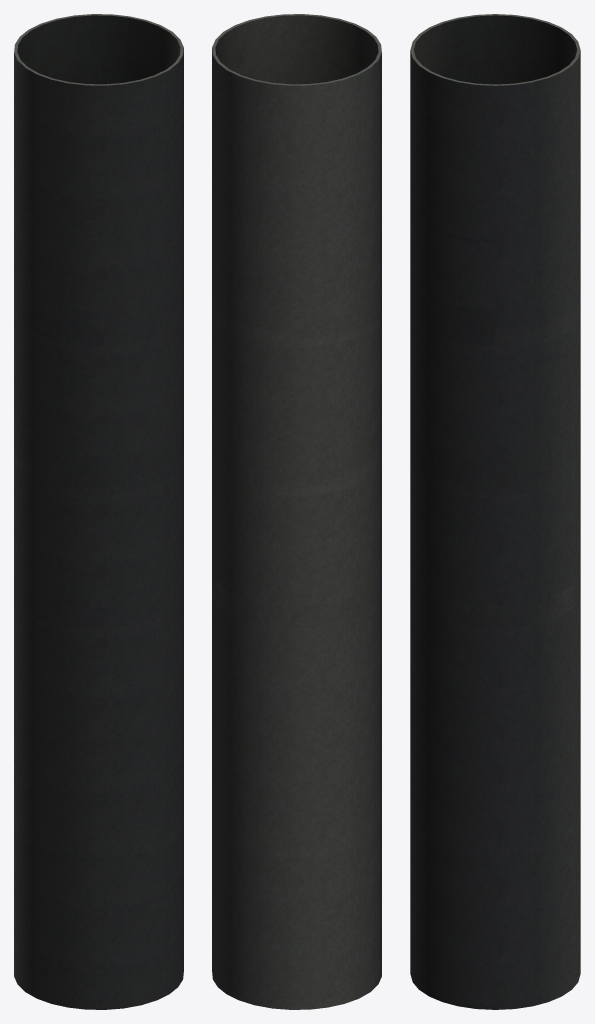
File: yuanzhu.obj
3 views of the same model, side by side, from view 1: azimuth 30°, elevation 25°; view 2: azimuth 150°, elevation 25°; view 3: azimuth 270°, elevation 25° (orthographic).
Parts seen in each view (by area): view 1: Circle01; view 2: Circle01; view 3: Circle01.
Boxes of the visible parts, bbox=[...] form: Circle01: bbox=[14, 14, 183, 1009]; Circle01: bbox=[212, 14, 381, 1009]; Circle01: bbox=[410, 14, 580, 1009].
Size of the model in its own units: 125 by 750 by 125.
1 material, 1 textured.
